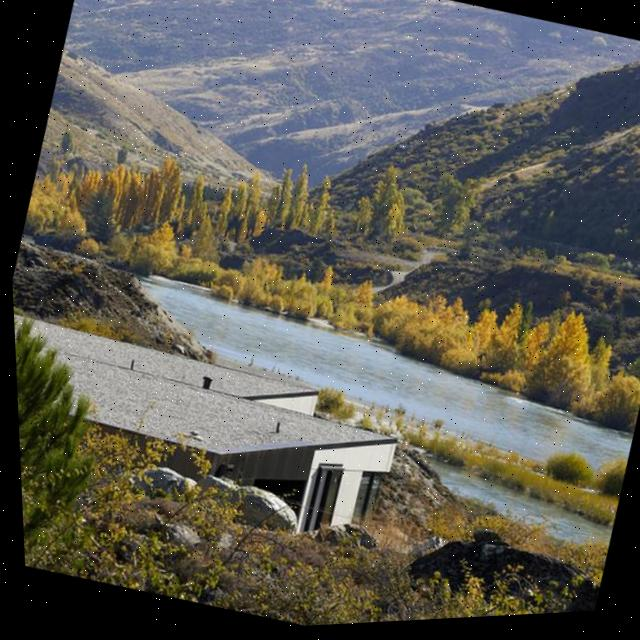building: (13, 272, 429, 575)
